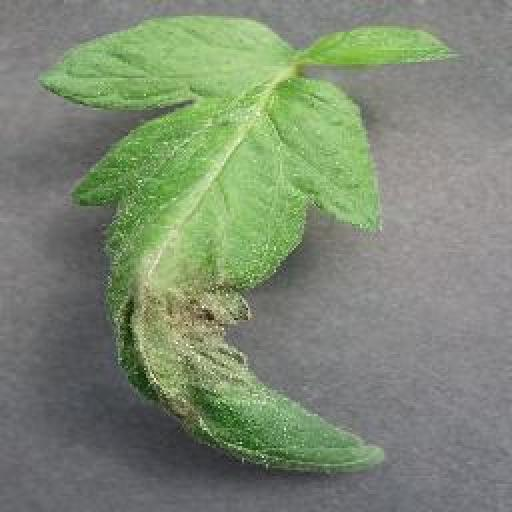disease_tomato: (42, 15, 394, 477)
